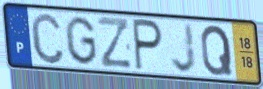C: (29, 10, 66, 66)
G: (64, 15, 100, 67)
J: (169, 21, 198, 75)
P: (131, 17, 165, 74)
Q: (200, 24, 235, 78)
Z: (96, 15, 134, 70)
